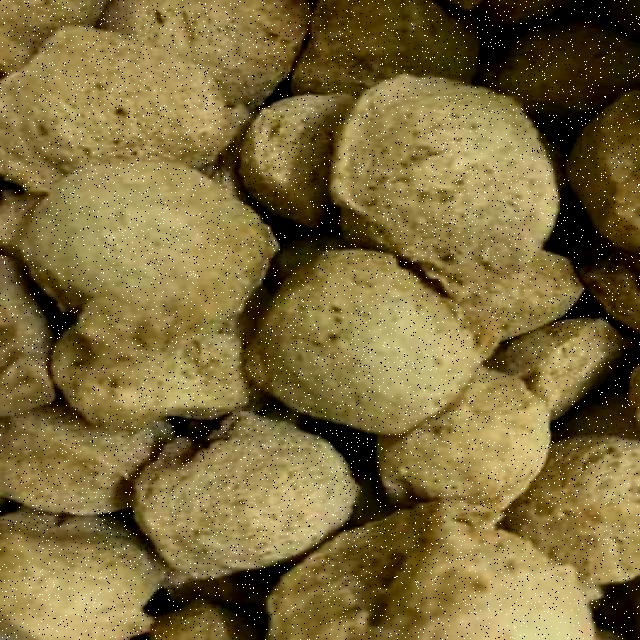Soy Chunks: (50, 26, 640, 637)
